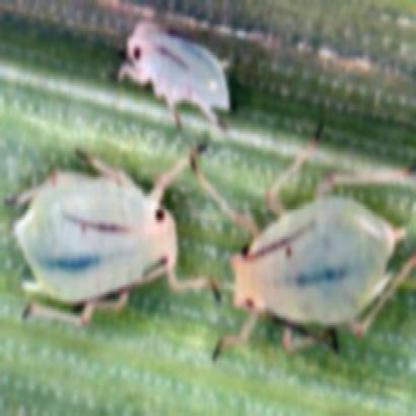schizaphis graminum: (213, 139, 405, 359), (10, 146, 204, 327), (118, 23, 230, 131)
